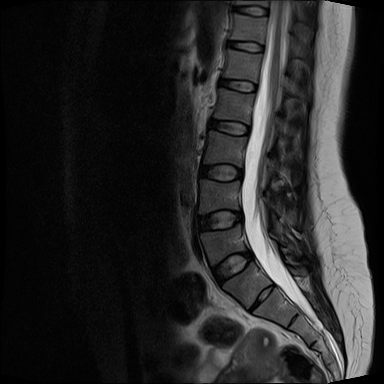Normal IVD: (204, 244, 255, 292), (191, 204, 244, 237), (195, 157, 244, 186), (202, 113, 251, 139), (221, 34, 266, 55), (217, 74, 258, 96), (228, 3, 270, 18)
